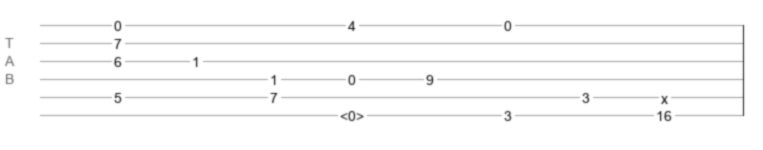0: (114, 18, 122, 28), (348, 72, 356, 82), (504, 18, 512, 28)
1: (192, 54, 200, 64), (270, 72, 278, 82)
16: (656, 108, 672, 118)
3: (504, 108, 512, 118), (582, 90, 590, 100)
4: (348, 18, 356, 28)
5: (114, 90, 122, 100)
6: (114, 54, 122, 64)
7: (114, 36, 122, 46), (270, 90, 278, 100)
9: (426, 72, 434, 82)
harmonic: (340, 108, 364, 118)
x: (661, 91, 668, 99)
